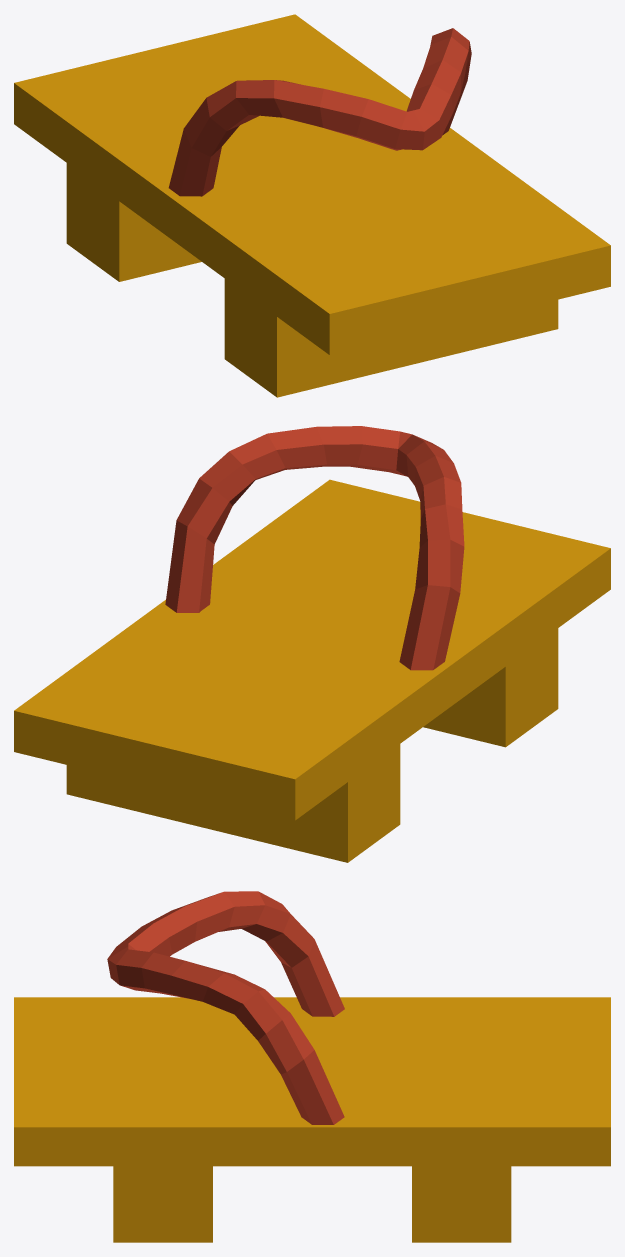
Rendered from shoes.fbx.
3 views of the same model, one above another, from view 1: azimuth 30°, elevation 25°; view 2: azimuth 150°, elevation 25°; view 3: azimuth 270°, elevation 25° (orthographic). The views are drawn at different scales.
Visible parts, largest first — view 1: Circle.001; view 2: Circle.001; view 3: Circle.001.
Boxes of the visible parts, bbox=[...] form: Circle.001: bbox=[14, 14, 610, 397]; Circle.001: bbox=[14, 426, 610, 862]; Circle.001: bbox=[14, 891, 610, 1242].
Bounding box in the file's own units: 30.95 × 27.38 × 59.98.
